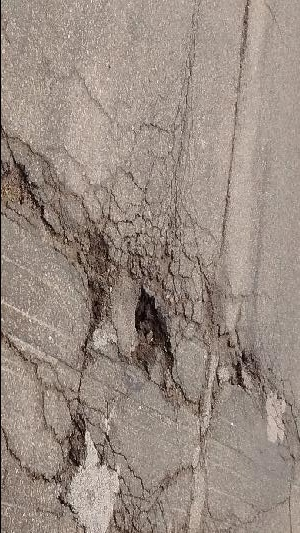pothole: (128, 283, 175, 364), (84, 230, 113, 321), (0, 157, 37, 215), (227, 348, 263, 396), (60, 414, 87, 471)
